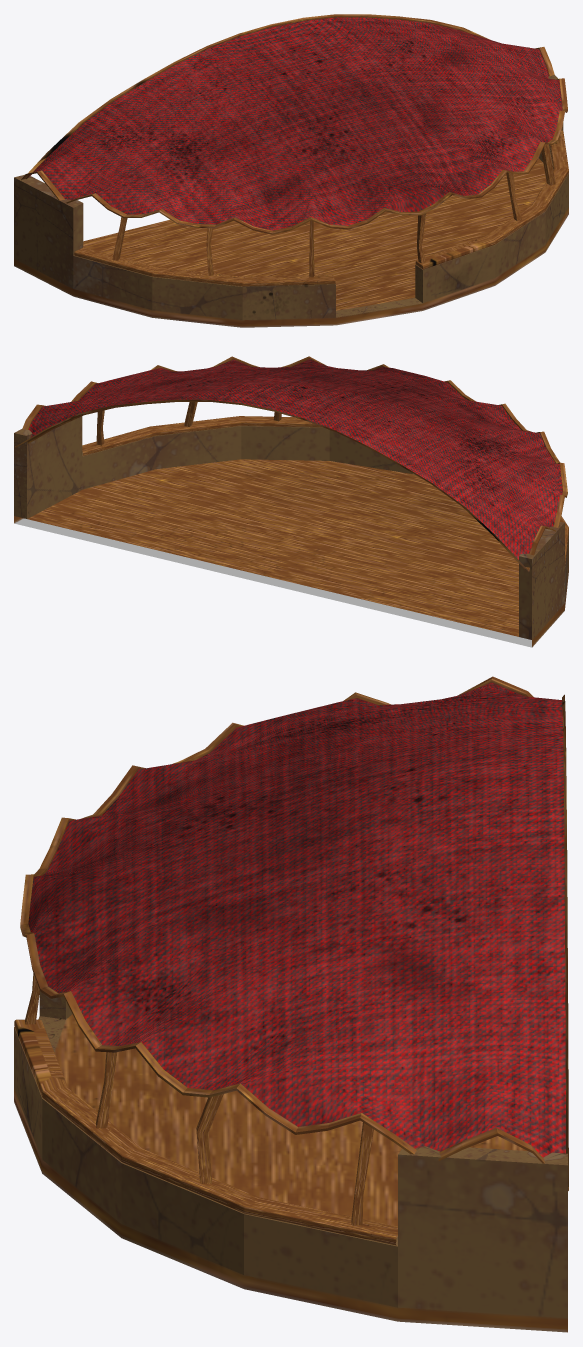
The model's file is Trogo_1.fbx.
3 views of the same model, one above another, from view 1: azimuth 30°, elevation 25°; view 2: azimuth 150°, elevation 25°; view 3: azimuth 270°, elevation 25° (orthographic). The views are drawn at different scales.
Parts seen in each view (by area): view 1: Trogo_1; view 2: Trogo_1; view 3: Trogo_1.
Boxes of the visible parts, box(x1,y1,x2,y2) form: Trogo_1: box(14, 14, 568, 327); Trogo_1: box(14, 356, 568, 647); Trogo_1: box(14, 676, 568, 1332).
Size of the model in its own units: 1287 by 421 by 649.
